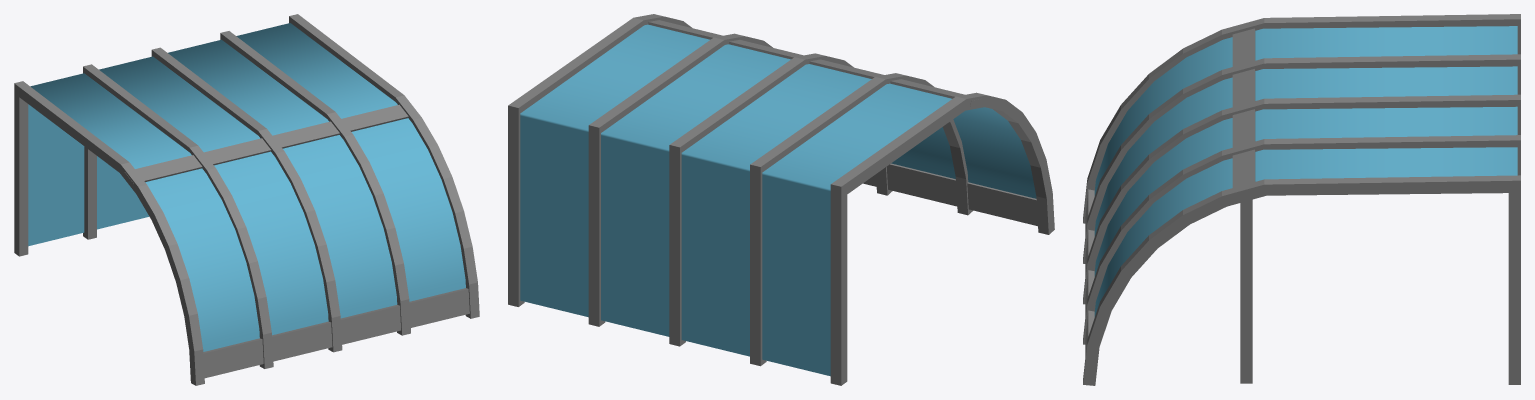
Rendered from shed_1.fbx.
3 views of the same model, side by side, from view 1: azimuth 30°, elevation 25°; view 2: azimuth 150°, elevation 25°; view 3: azimuth 270°, elevation 25° (orthographic). The views are drawn at different scales.
Visible parts, largest first — view 1: shed_1; view 2: shed_1; view 3: shed_1.
Boxes of the visible parts, x1,y1,x2,y2 form: shed_1: (14,14,479,385); shed_1: (508,14,1054,385); shed_1: (1083,14,1520,385).
Size of the model in its own units: 1273 by 730 by 1412.
